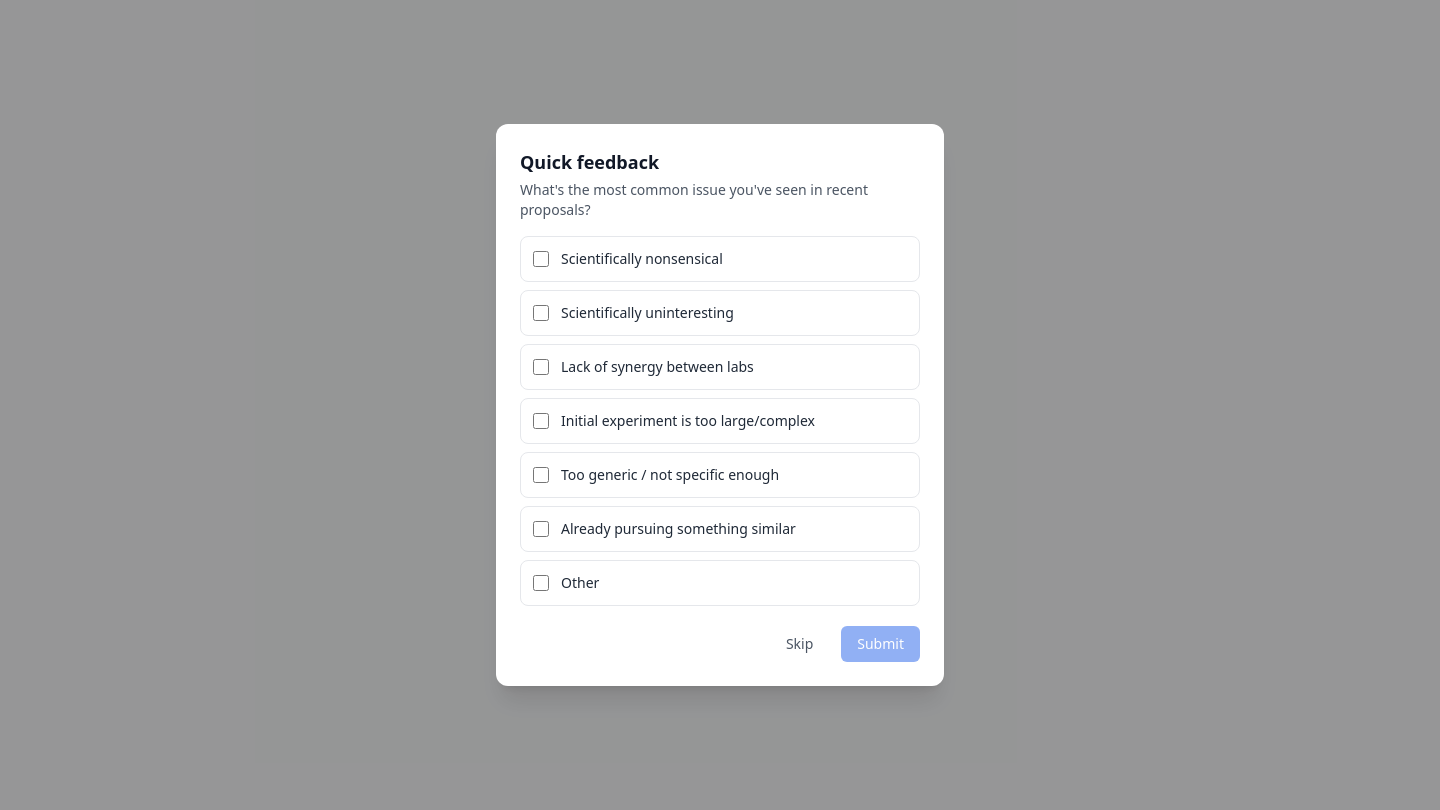
SurveyModal › deselects an option when clicked again
Click the text "Too generic / not specific enough" at (670, 475), box x1=561 y1=465 x2=779 y2=485
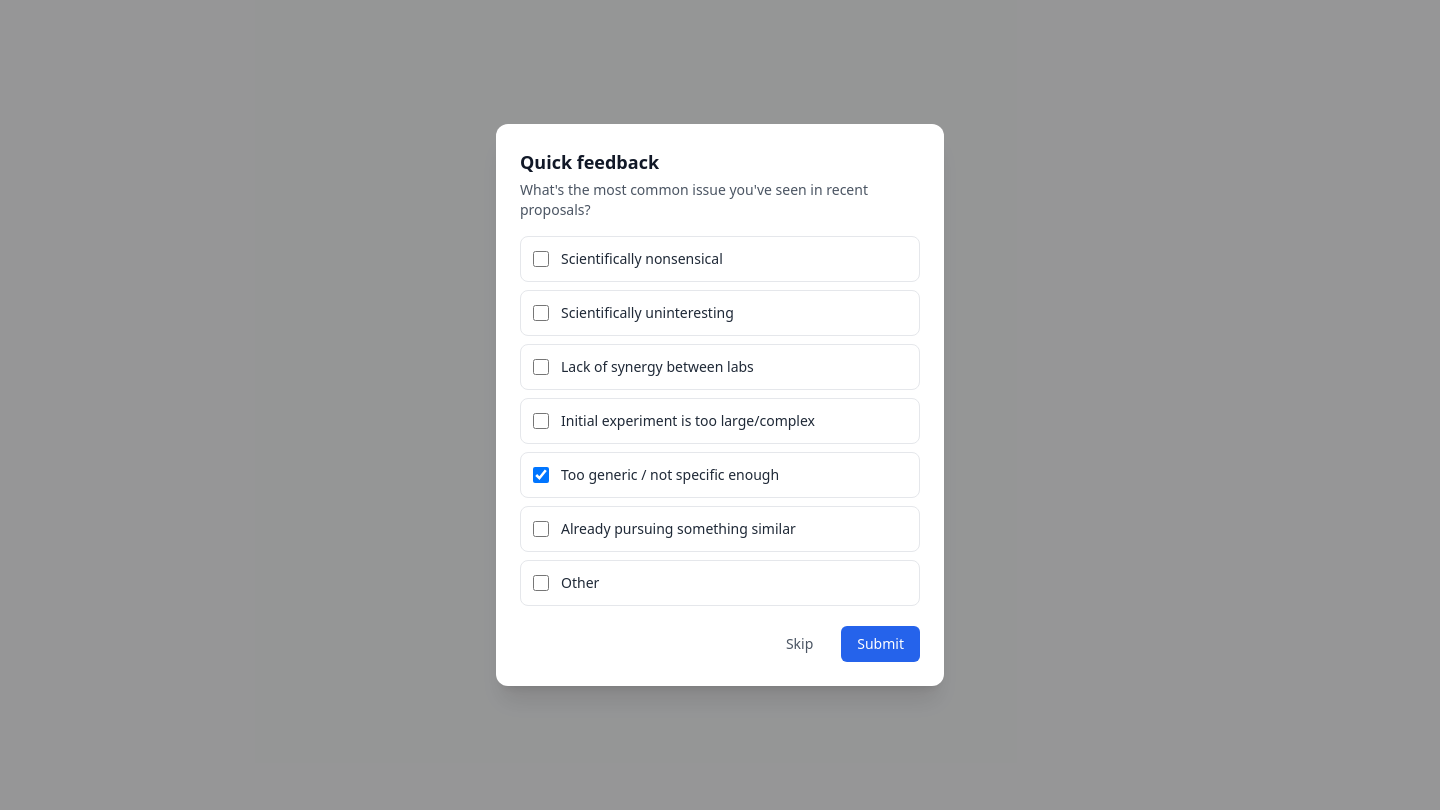
Expected: the button "Submit" is enabled, x1=841 y1=626 x2=920 y2=662
# Click again to deselect
Click the text "Too generic / not specific enough" at (670, 475), box x1=561 y1=465 x2=779 y2=485
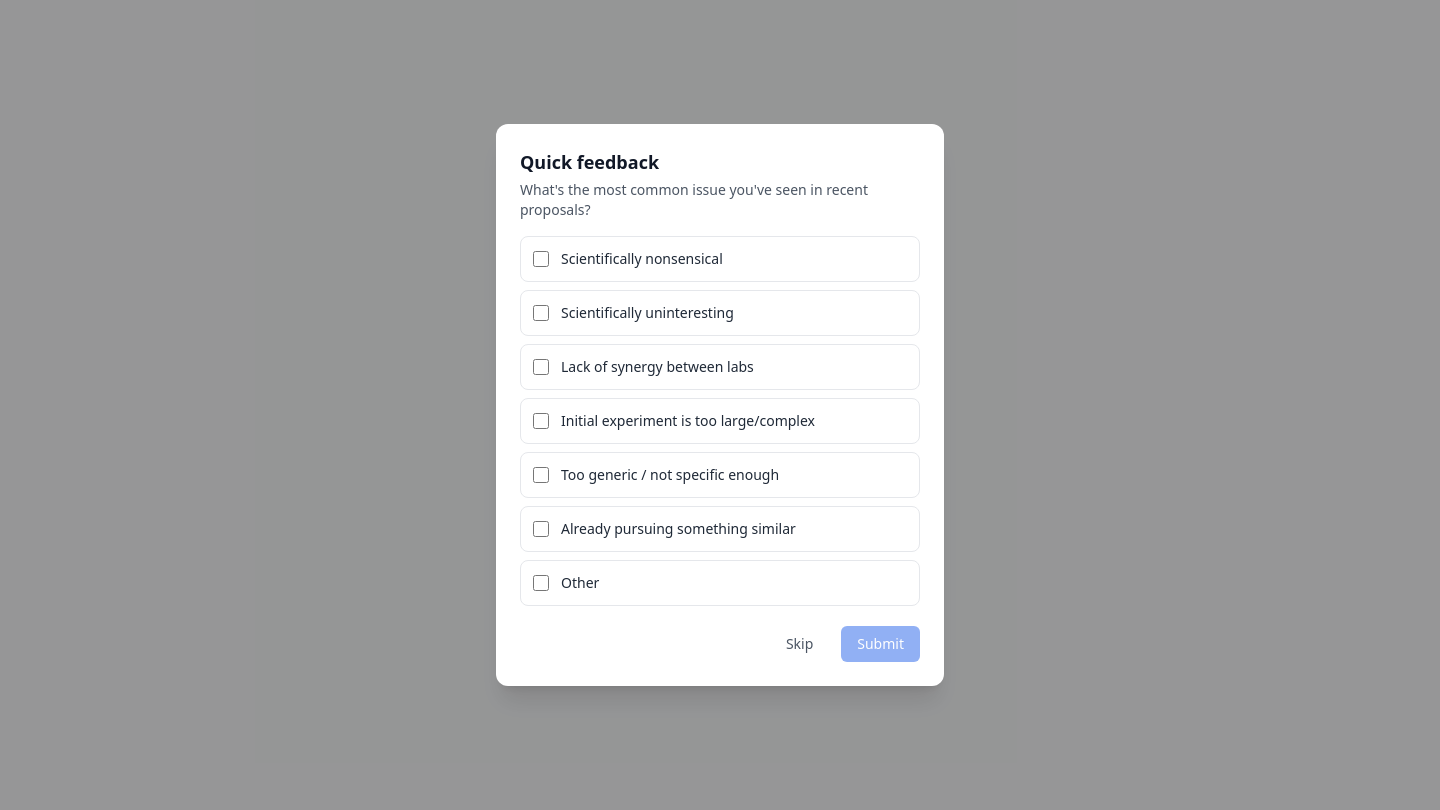
Expected: the button "Submit" is disabled, x1=841 y1=626 x2=920 y2=662
